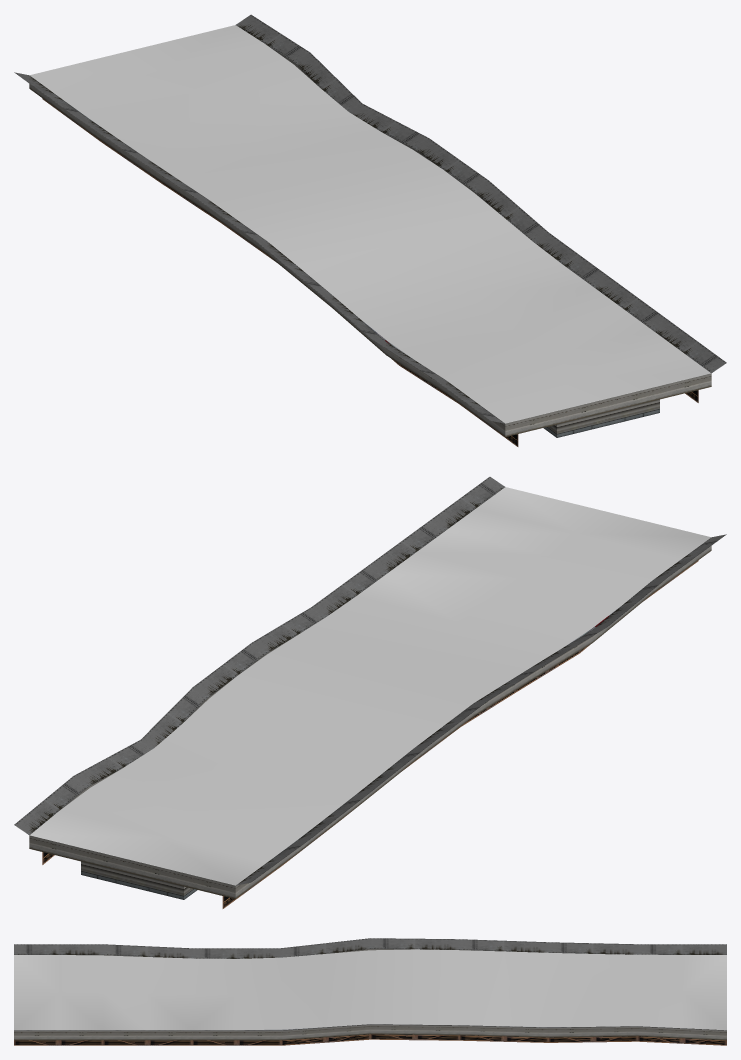
Rendered from StrUneven.fbx.
3 views of the same model, one above another, from view 1: azimuth 30°, elevation 25°; view 2: azimuth 150°, elevation 25°; view 3: azimuth 270°, elevation 25° (orthographic). The views are drawn at different scales.
Parts seen in each view (by area): view 1: Empty_Mesh; view 2: Empty_Mesh; view 3: Empty_Mesh.
Part boxes in pixels (bbox=[...]): Empty_Mesh: bbox=[14, 14, 726, 446]; Empty_Mesh: bbox=[14, 477, 726, 908]; Empty_Mesh: bbox=[14, 938, 726, 1045].
Bounding box in the file's own units: 18.4 × 3.5 × 64.
